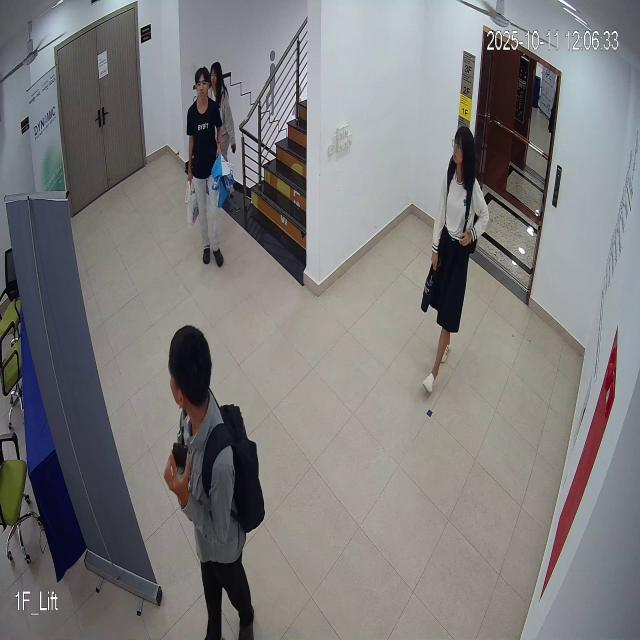face: (448, 118, 478, 178), (194, 64, 211, 110)
